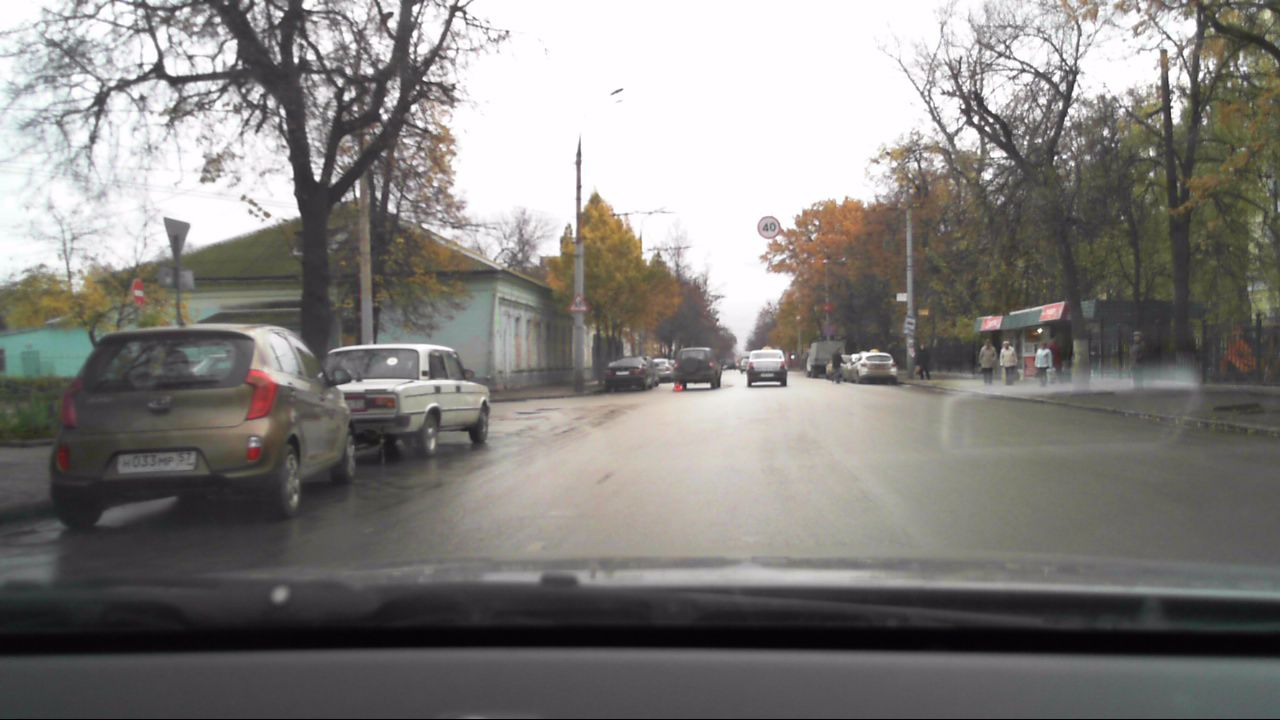speed_warning_40: (756, 216, 782, 239)
